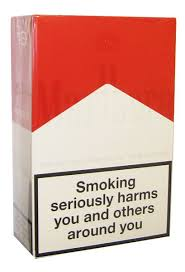marlboro: (35, 15, 173, 244)
